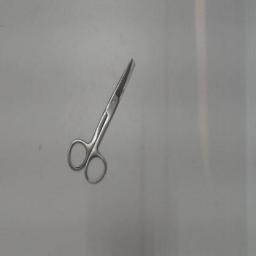Dressing Scissors: (60, 52, 140, 190)
